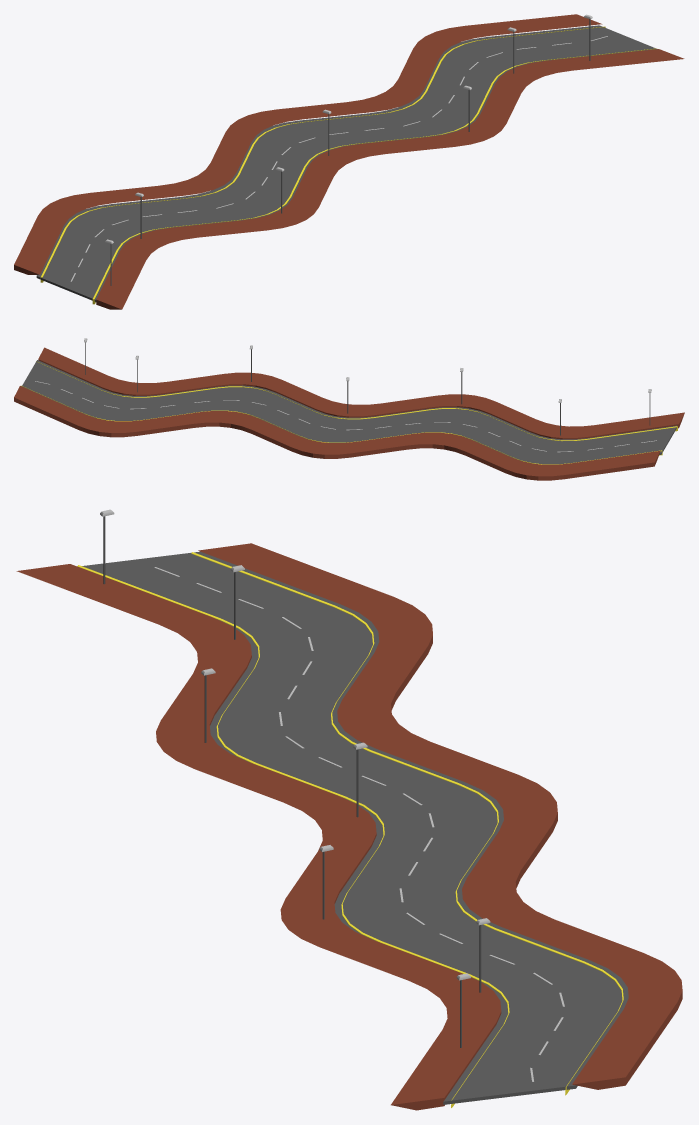
The model's file is Road curved.obj.
The picture shows the model from 3 angles, top to bottom: view 1: azimuth 30°, elevation 25°; view 2: azimuth 150°, elevation 25°; view 3: azimuth 270°, elevation 25°; orthographic projection. The views are drawn at different scales.
Parts seen in each view (by area): view 1: Box20208, Box20210, Box20209, Box20212, Box20211; view 2: Box20208, Box20209, Box20210, Box20211, Box20212; view 3: Box20208, Box20209, Box20210, Box20212, Box20211.
Boxes of the visible parts, x1,y1,x2,y2 form: Box20208: [36, 25, 657, 301]; Box20210: [96, 49, 684, 309]; Box20209: [14, 14, 602, 274]; Box20212: [40, 26, 605, 282]; Box20211: [92, 48, 656, 304]; Box20208: [22, 360, 677, 464]; Box20209: [14, 386, 660, 480]; Box20210: [38, 347, 684, 439]; Box20211: [36, 361, 677, 441]; Box20212: [21, 385, 662, 464]; Box20208: [82, 551, 628, 1104]; Box20209: [198, 543, 682, 1089]; Box20210: [16, 564, 501, 1110]; Box20212: [191, 552, 623, 1095]; Box20211: [77, 565, 509, 1107].
Size of the model in its own units: 1971 by 135 by 988.
